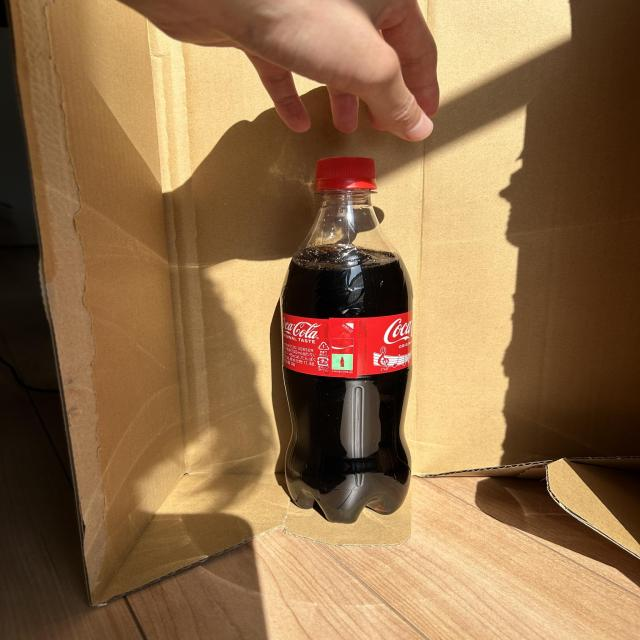high: (280, 158, 412, 522)
